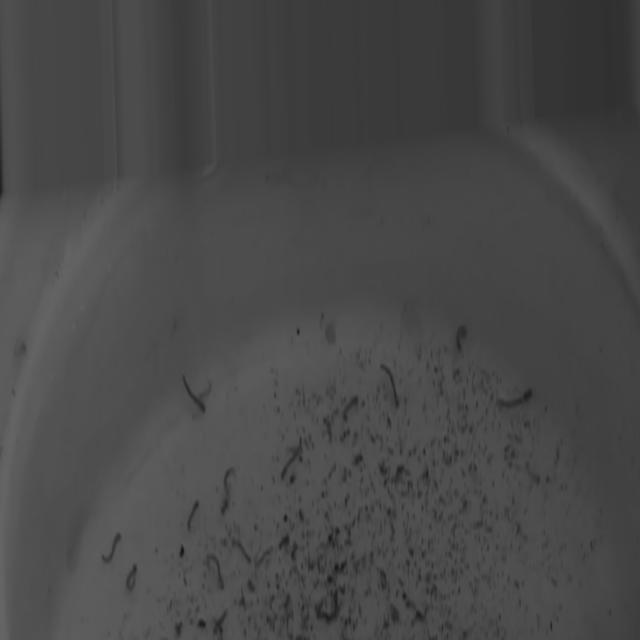larvas: (181, 372, 207, 419), (206, 546, 228, 593), (280, 439, 303, 482), (496, 385, 534, 409), (381, 361, 399, 410), (103, 529, 120, 565), (212, 606, 229, 637), (186, 498, 200, 532), (233, 541, 251, 566), (455, 326, 470, 354), (198, 377, 214, 402), (315, 602, 335, 622), (342, 396, 357, 420), (224, 466, 236, 496), (255, 548, 272, 567), (334, 583, 344, 613), (125, 564, 136, 590), (289, 567, 300, 585), (340, 618, 349, 640), (326, 325, 336, 343), (183, 562, 191, 584), (220, 498, 229, 517), (278, 534, 288, 550), (398, 433, 404, 458), (411, 612, 421, 626), (380, 570, 387, 590), (280, 594, 289, 608), (287, 615, 292, 640), (327, 421, 332, 444), (407, 601, 417, 612), (291, 544, 297, 560), (328, 464, 335, 477), (296, 388, 301, 406), (266, 616, 272, 630), (273, 613, 277, 632), (219, 625, 224, 640), (339, 617, 344, 631), (270, 594, 274, 610), (302, 385, 305, 406), (242, 588, 245, 608), (418, 344, 422, 359), (320, 313, 323, 329), (344, 538, 350, 546)
